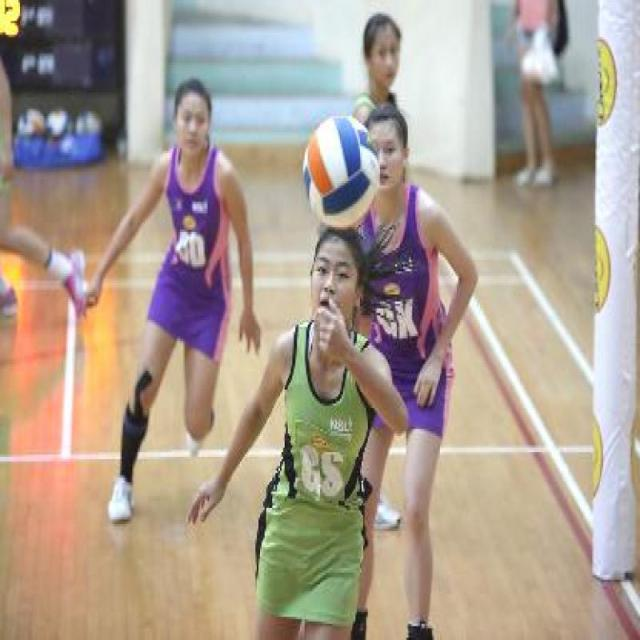volleyball: (302, 111, 380, 232)
